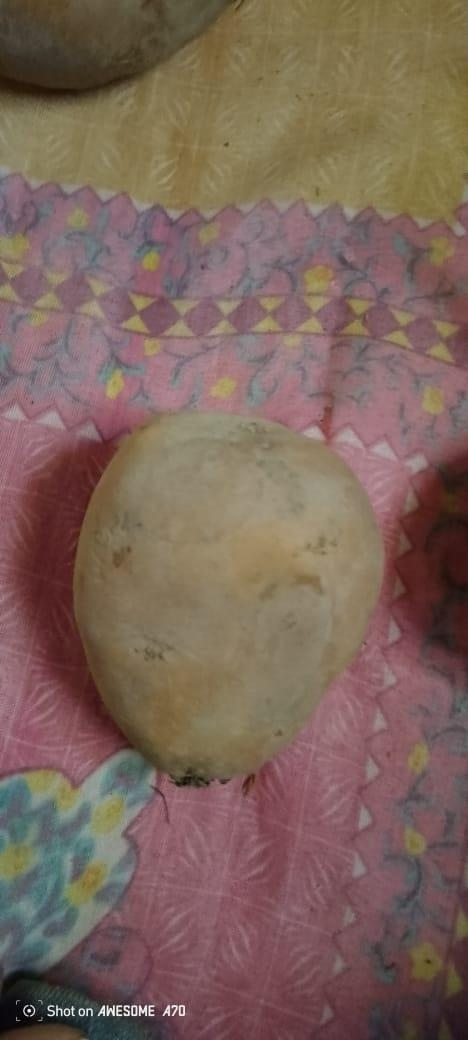non-mango: (60, 398, 387, 787)
